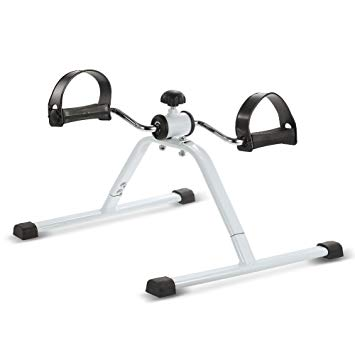gym_bike: (4, 62, 350, 305)
